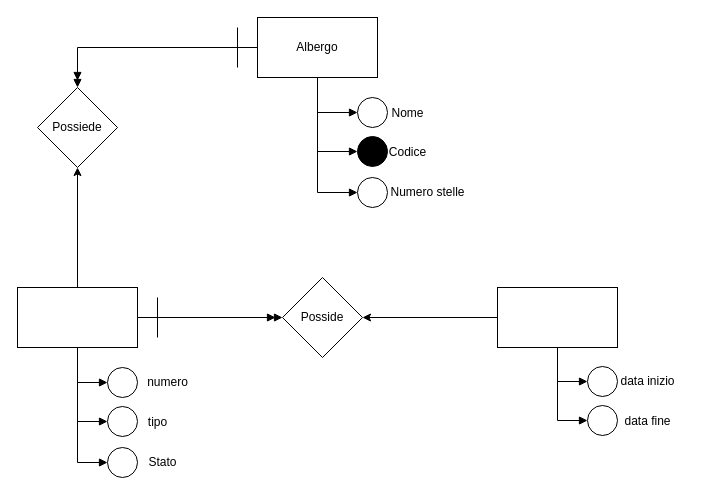
Some shapes in this 705 by 495 pixel diagram are drawn without their labels. The shapes that lost their labels are listed below. From the top down, each one's box as (x1, y1, x2, y2) in pixels, then its label:
(16, 286, 138, 348): Stanza
(496, 286, 618, 348): Prenotazione
